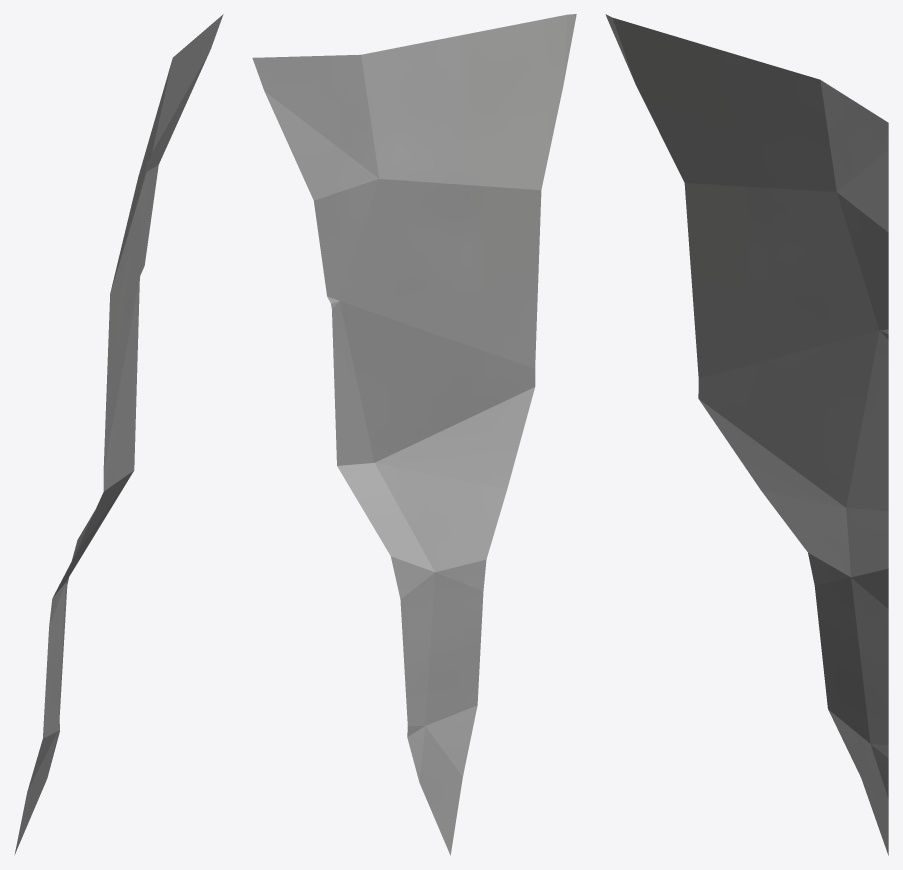
3 renders of one model, left to right at view 1: azimuth 30°, elevation 25°; view 2: azimuth 150°, elevation 25°; view 3: azimuth 270°, elevation 25°, orthographic. The views are drawn at different scales.
Bounding box in the file's own units: 0.0413 × 0.1491 × 0.0454.
Materials: 1 (1 with a texture image).
